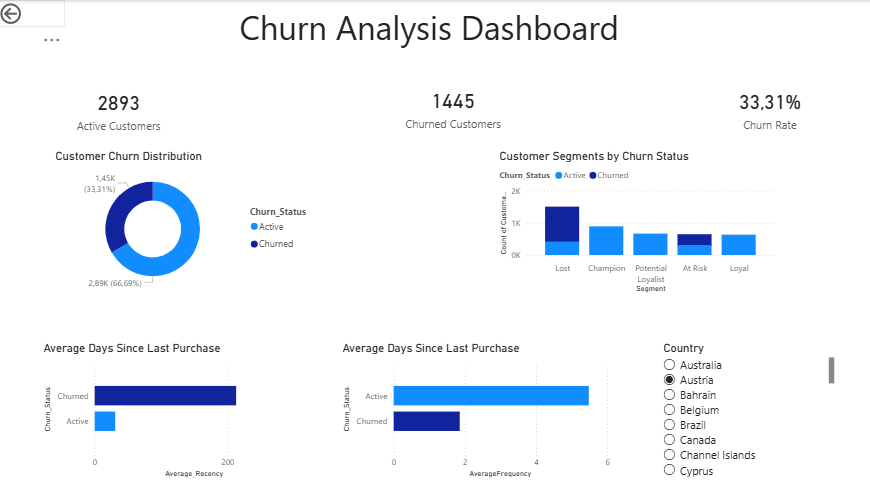

The page's visual inventory and layout, read from the dashboard file:
{"tool":"powerbi","page":{"name":"Page 3","canvas":[1280,720],"ordinal":2},"visuals":[{"type":"textbox","box":[350,1.7,578.3,96.7],"z":0},{"type":"card","fields":{"Values":["customer_segments.Active Customers"]},"box":[21.7,78.3,311.7,161.7],"z":1000},{"type":"card","fields":{"Values":["customer_segments.Churned Customers"]},"box":[521.7,75,293.3,165],"z":2000},{"type":"card","fields":{"Values":["customer_segments.Churn Rate"]},"box":[993.3,83.3,275,150],"z":3000},{"type":"donutChart","title":"Customer Churn Distribution","fields":{"Category":["customer_segments.Churn_Status","customer_segments.Churn"],"Y":["CountNonNull(customer_segments.CustomerID)"]},"box":[63.3,240,386.7,205],"z":4000},{"type":"columnChart","title":"Customer Segments by Churn Status","fields":{"Category":["customer_segments.Segment"],"Y":["CountNonNull(customer_segments.CustomerID)"],"Series":["customer_segments.Churn_Status"]},"box":[730,218.3,401.7,205],"z":5000},{"type":"clusteredBarChart","title":"Average Days Since Last Purchase","fields":{"Category":["customer_segments.Churn_Status","customer_segments.Churn"],"Y":["customer_segments.Average_Recency"]},"box":[63.3,498.3,386.7,205],"z":6000},{"type":"clusteredBarChart","title":"Average Days Since Last Purchase","fields":{"Category":["customer_segments.Churn_Status"],"Y":["customer_segments.AverageFrequency"]},"box":[500,498.3,401.7,205],"z":7000},{"type":"actionButton","box":[0,0,100,40],"z":7001},{"type":"listSlicer","fields":{"Values":["retail_transactions_clean.Country"]},"box":[970,498.3,260,205],"z":7002}]}

Visuals, with their boxes on the page's 1280x720 design canvas (x1, y1, x2, y2). These are canvas units, not pixel positions in the 870x488 screenshot, which may show the page scaled, cropped or inside an application window:
textbox: (left=350, top=2, right=928, bottom=98)
card - customer_segments.Active Customers: (left=22, top=78, right=333, bottom=240)
card - customer_segments.Churned Customers: (left=522, top=75, right=815, bottom=240)
card - customer_segments.Churn Rate: (left=993, top=83, right=1268, bottom=233)
"Customer Churn Distribution" donutChart: (left=63, top=240, right=450, bottom=445)
"Customer Segments by Churn Status" columnChart: (left=730, top=218, right=1132, bottom=423)
"Average Days Since Last Purchase" clusteredBarChart: (left=63, top=498, right=450, bottom=703)
"Average Days Since Last Purchase" clusteredBarChart: (left=500, top=498, right=902, bottom=703)
actionButton: (left=0, top=0, right=100, bottom=40)
listSlicer - retail_transactions_clean.Country: (left=970, top=498, right=1230, bottom=703)
